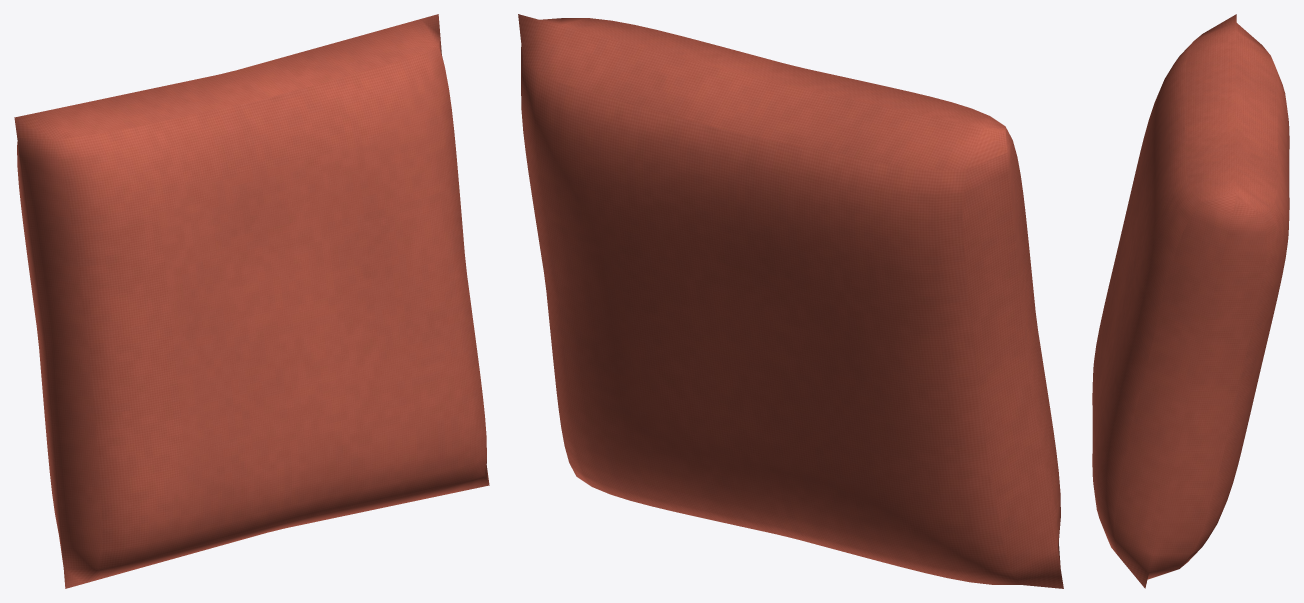
File: mdm-223563.glb
3 renders of one model, left to right at view 1: azimuth 30°, elevation 25°; view 2: azimuth 150°, elevation 25°; view 3: azimuth 270°, elevation 25°, orthographic. The views are drawn at different scales.
Visible parts, largest first — view 1: mdm-223563; view 2: mdm-223563; view 3: mdm-223563.
Part boxes in pixels (x1,y1,x2,y2): mdm-223563: (14,14,489,588); mdm-223563: (518,14,1063,588); mdm-223563: (1092,14,1289,588).
Size of the model in its own units: 0.45 by 0.4402 by 0.2019.
1 material, 1 textured.
